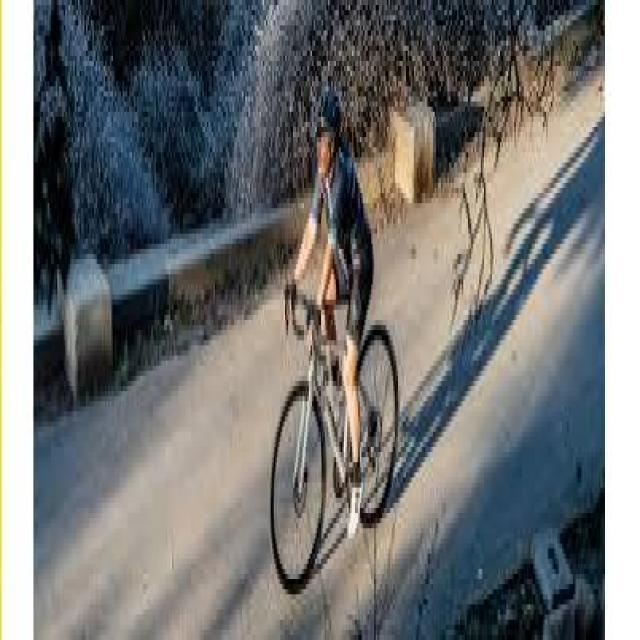bicycle: (272, 291, 401, 591)
